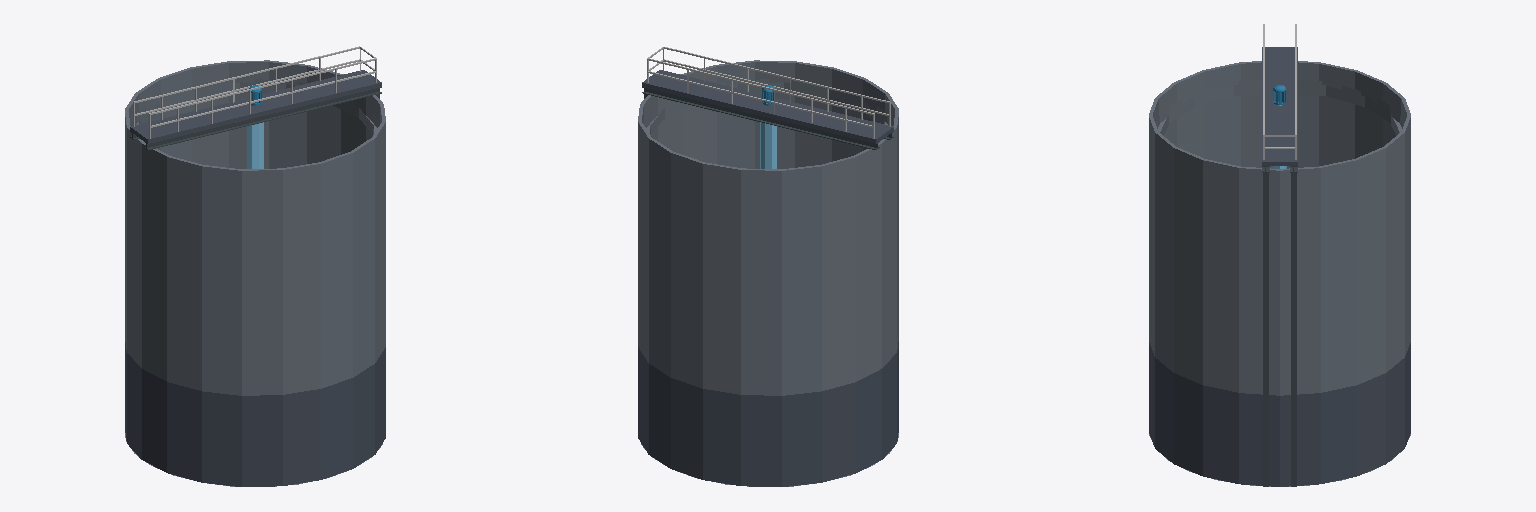
File: sedimentation_tank_heavymedium.obj
The picture shows the model from 3 angles: view 1: azimuth 30°, elevation 25°; view 2: azimuth 150°, elevation 25°; view 3: azimuth 270°, elevation 25°; orthographic projection.
Parts seen in each view (by area): view 1: __, ___.2, __.2, ___.3, __.1; view 2: __, ___.2, __.2, ___.4, __.1; view 3: __, ___.2, __.2, ___.1, ___.
Part boxes in pixels (x1,y1,x2,y2): __: (125, 60, 385, 486); ___.2: (130, 70, 381, 143); __.2: (130, 79, 379, 136); ___.3: (144, 87, 381, 149); __.1: (247, 122, 263, 168); __: (638, 60, 898, 486); ___.2: (642, 70, 893, 143); __.2: (644, 79, 893, 136); ___.4: (642, 87, 879, 149); __.1: (760, 122, 776, 168); __: (1149, 61, 1410, 486); ___.2: (1262, 47, 1297, 165); __.2: (1156, 79, 1403, 135); ___.1: (1263, 173, 1268, 486); ___: (1291, 173, 1296, 486).
Bounding box in the file's own units: 1531 × 2201 × 1489.